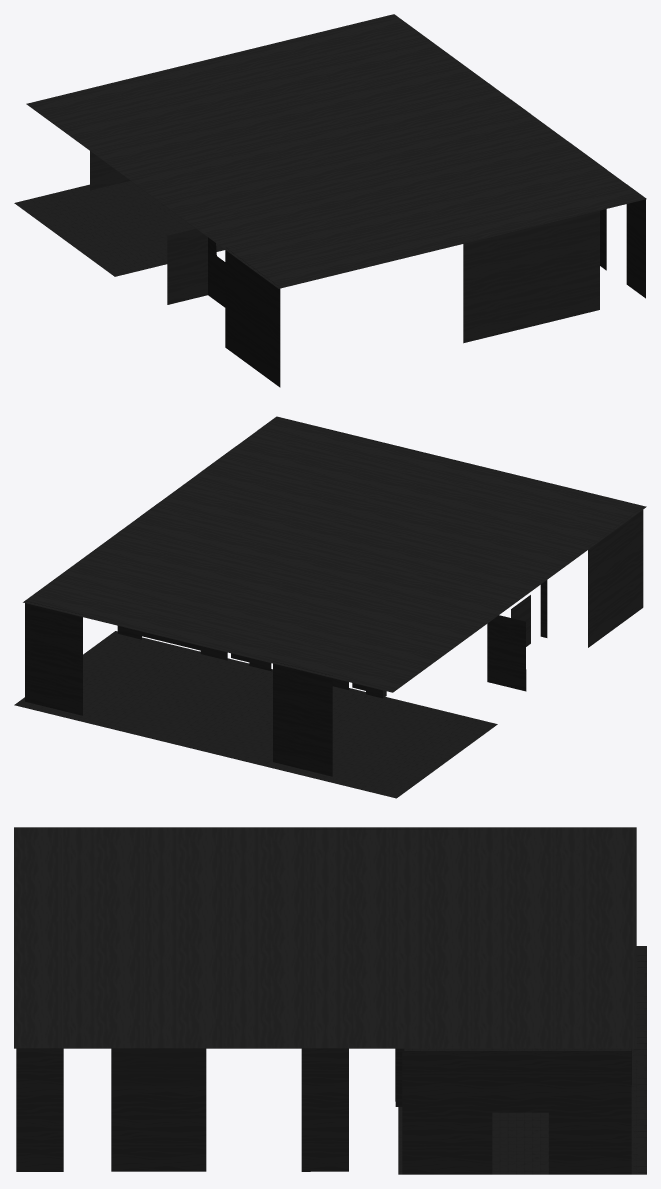
Rendered from ConveyorBeltRoomDARK.fbx.
The picture shows the model from 3 angles, top to bottom: view 1: azimuth 30°, elevation 25°; view 2: azimuth 150°, elevation 25°; view 3: azimuth 270°, elevation 25°; orthographic projection. The views are drawn at different scales.
Parts seen in each view (by area): view 1: ConveyorBeltRoom; view 2: ConveyorBeltRoom; view 3: ConveyorBeltRoom.
Boxes of the visible parts, box(x1,y1,x2,y2) form: ConveyorBeltRoom: box(14, 14, 646, 387); ConveyorBeltRoom: box(14, 416, 646, 798); ConveyorBeltRoom: box(14, 827, 646, 1174).
Bounding box in the file's own units: 10276 × 2591 × 12016.
